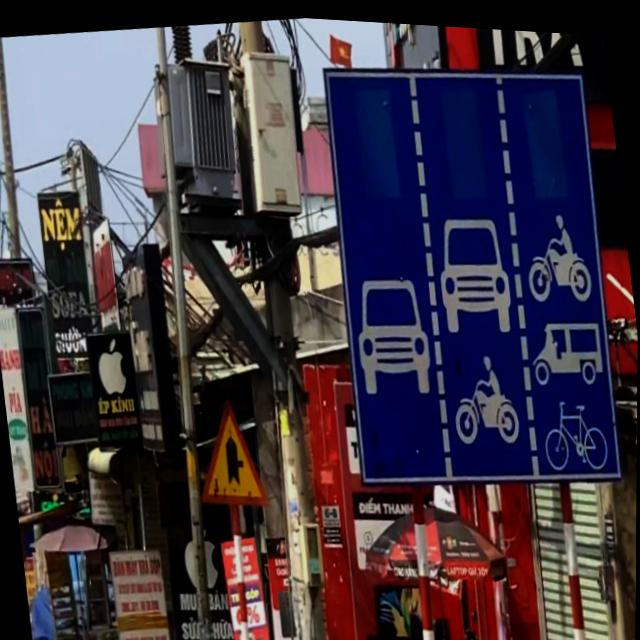Giao nhau voi duong khong uu tien ben phai: (189, 387, 273, 513)
